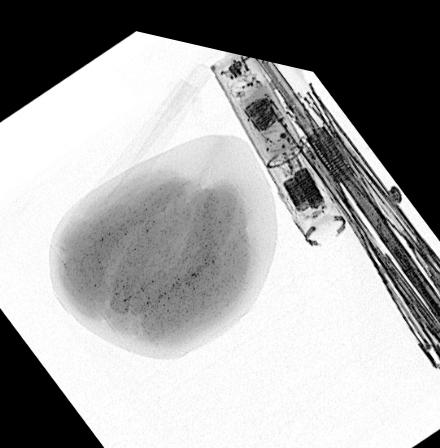Baton: (206, 42, 348, 231)
